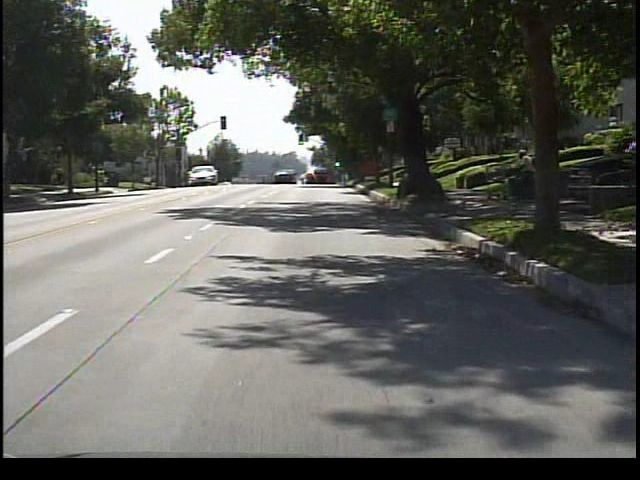person: (512, 146, 541, 203)
